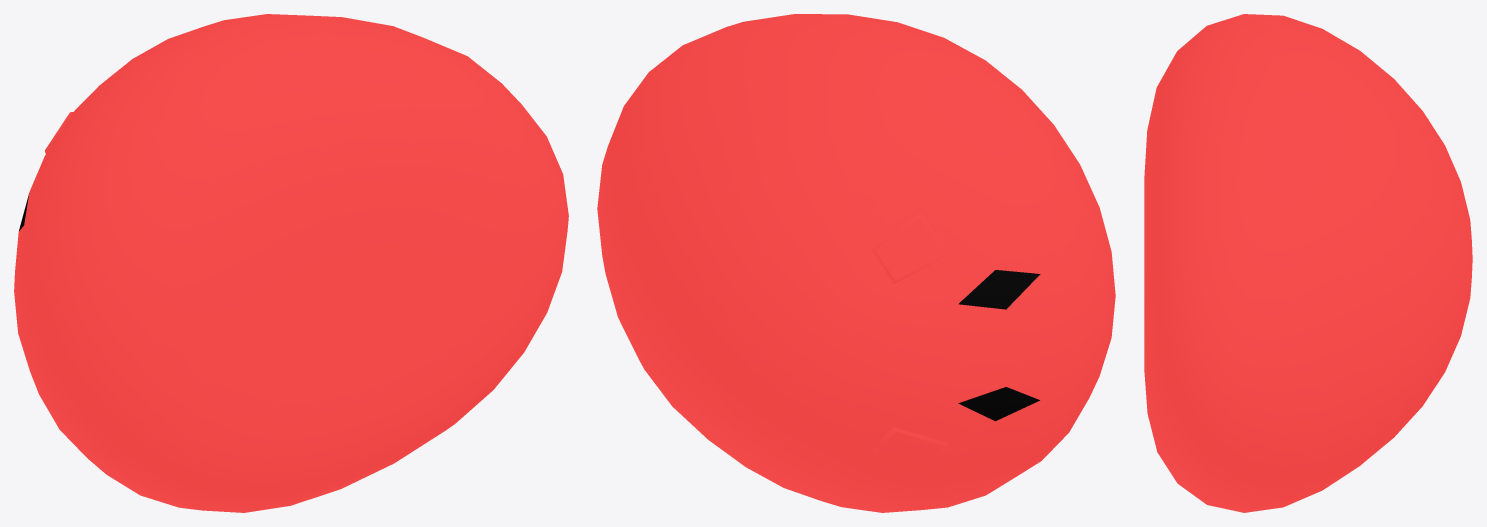
The model's file is Рашер2.FBX.
The picture shows the model from 3 angles, left to right: view 1: azimuth 30°, elevation 25°; view 2: azimuth 150°, elevation 25°; view 3: azimuth 270°, elevation 25°; orthographic projection. The views are drawn at different scales.
Parts seen in each view (by area): view 1: Sphere005; view 2: Sphere005; view 3: Sphere005.
Part boxes in pixels (x1,y1,x2,y2): Sphere005: (14, 14, 568, 512); Sphere005: (597, 14, 1115, 512); Sphere005: (1144, 14, 1472, 512).
Size of the model in its own units: 96.84 by 85.08 by 57.54.
